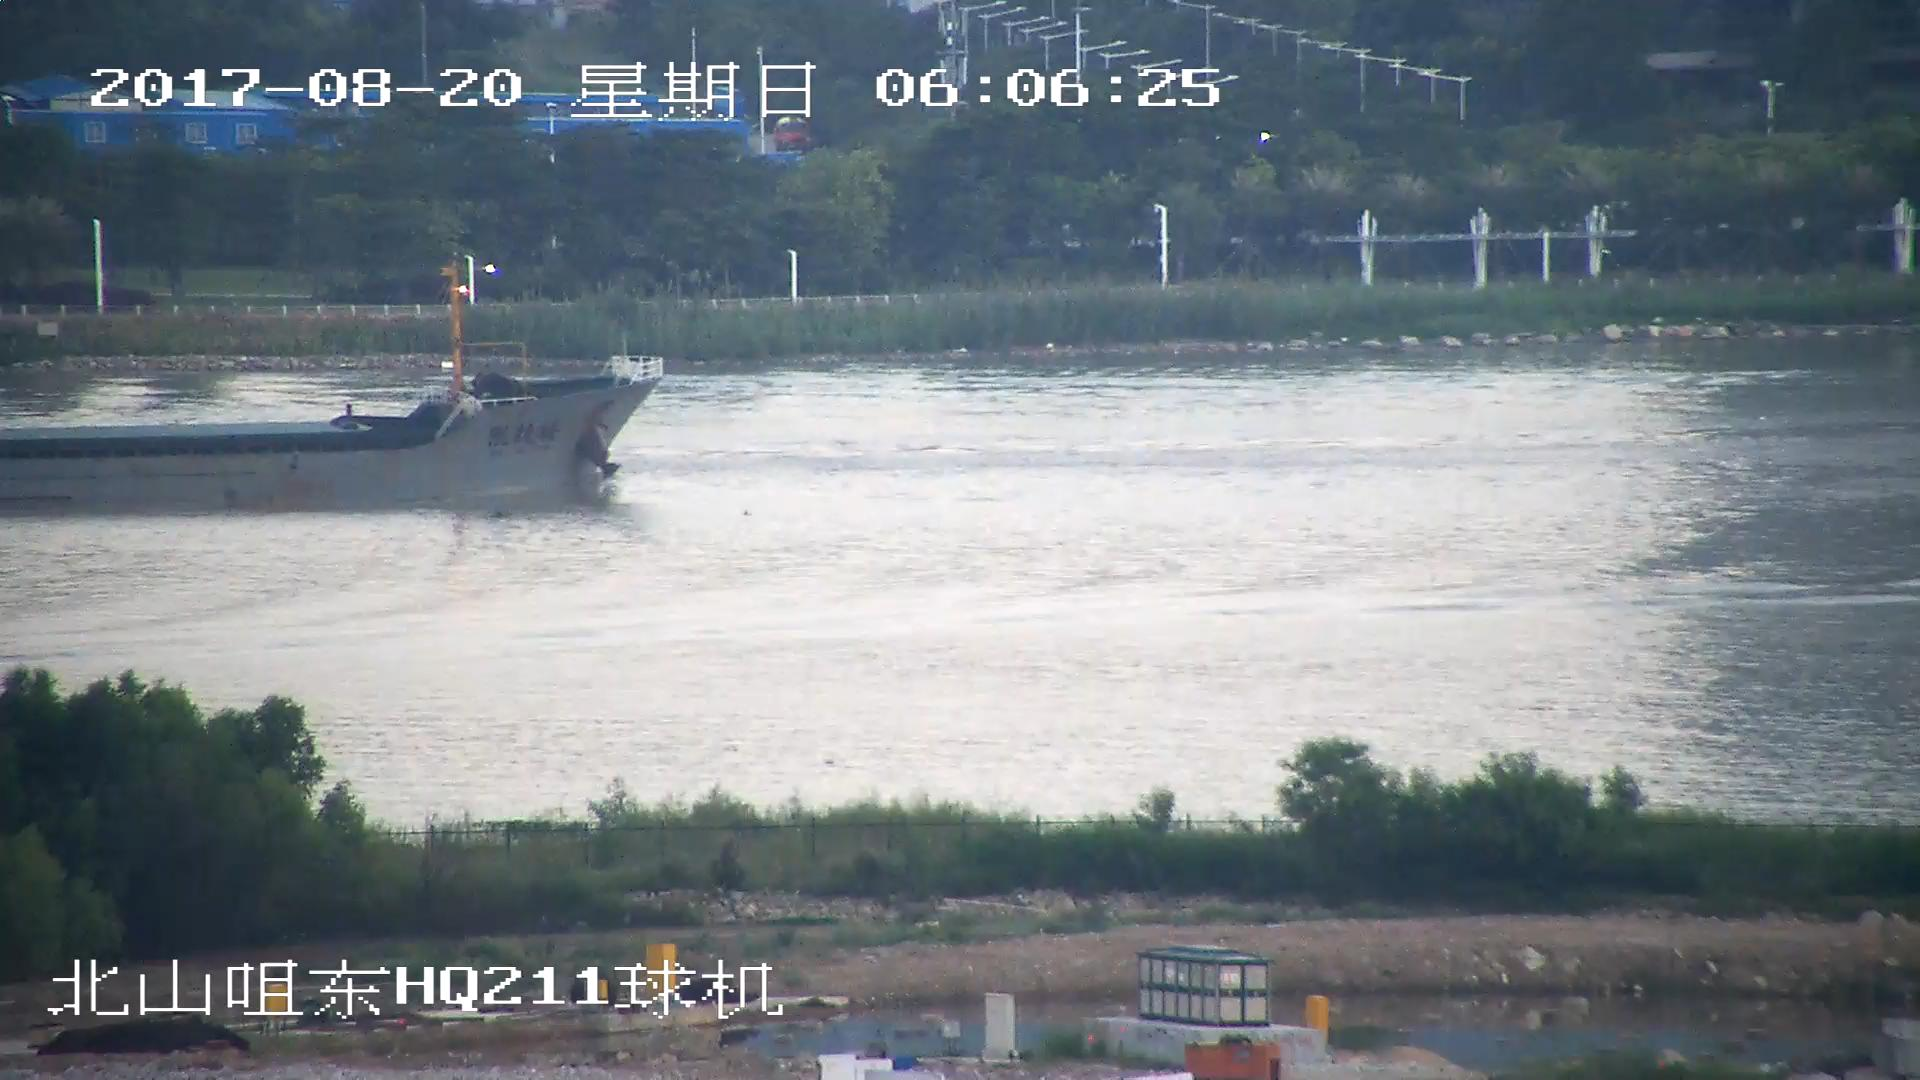general cargo ship: (1, 315, 653, 500)
